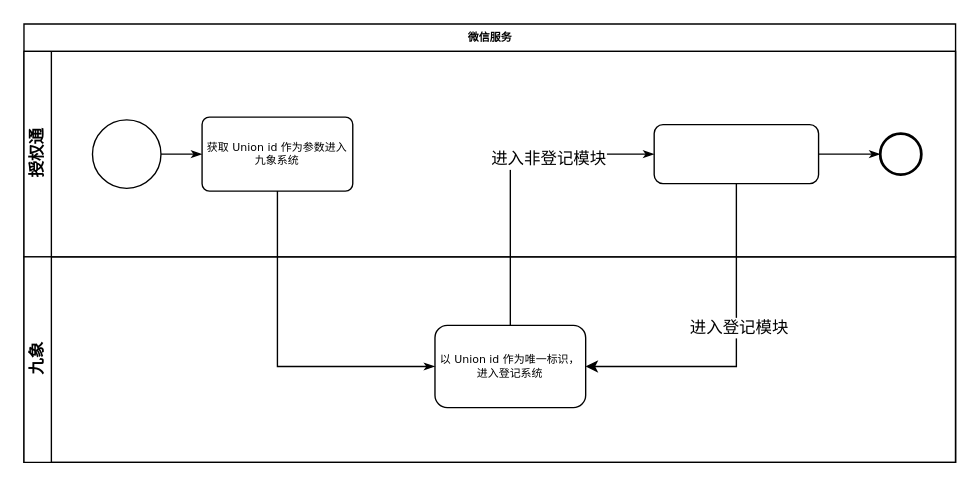
The diagram is 980 pixels wide and 486 high, and some of its shapes have lost their labels. The shapes that lost their labels are listed below. From the top down, each one's centre as x and y in pixels, then its label:
pixel 126 153: 进入微信菜单
pixel 736 153: 授权通其他模块
